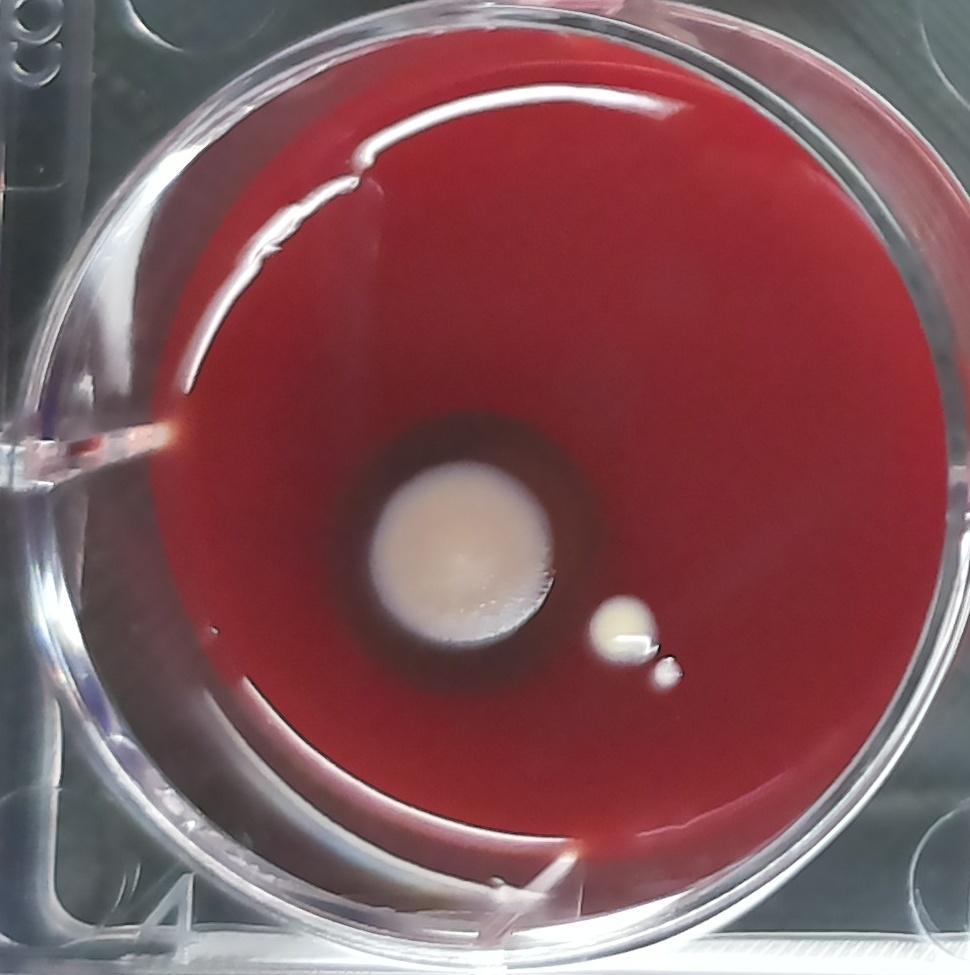bcereus: (315, 408, 580, 670), (582, 585, 675, 677), (647, 649, 697, 696)
